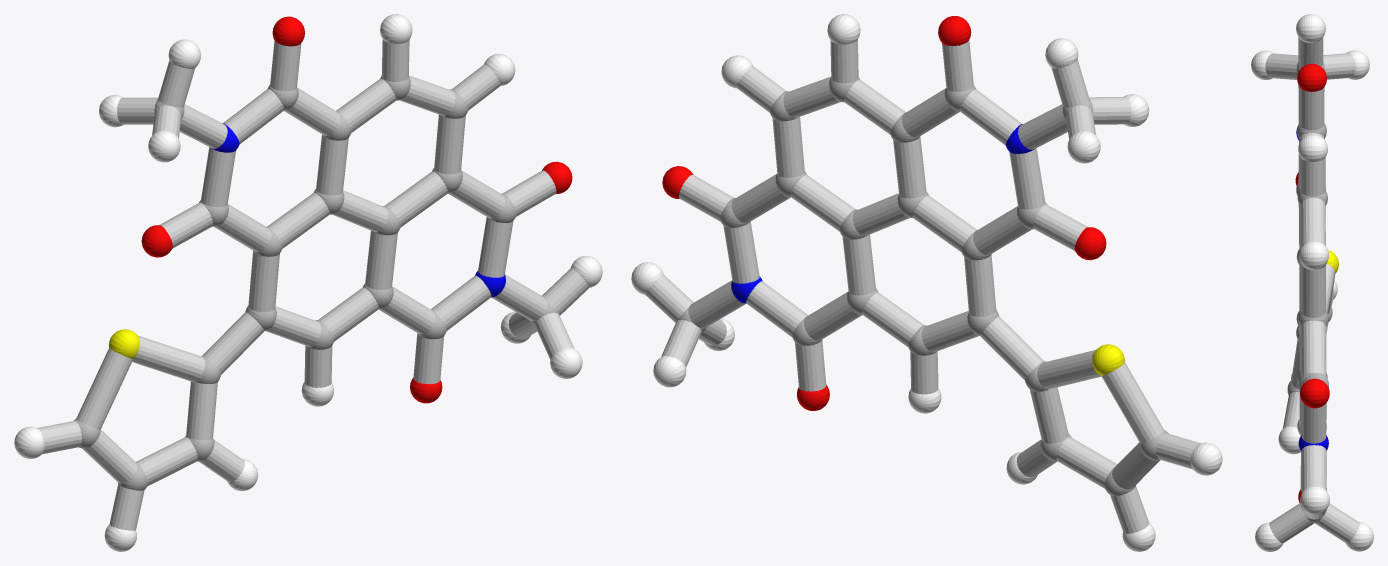
File: Dimethyl_Naphthalene_Dicarboximide_Phi_0_Theta_190_Thiophene.glb
The picture shows the model from 3 angles, left to right: view 1: azimuth 30°, elevation 25°; view 2: azimuth 150°, elevation 25°; view 3: azimuth 270°, elevation 25°; orthographic projection. The views are drawn at different scales.
Parts seen in each view (by area): view 1: grp14119, grp7241, grp1, grp12309, grp11585, grp13757; view 2: grp14119, grp7241, grp1, grp12309, grp13757, grp11585; view 3: grp14119, grp7241, grp12309, grp1, grp11585.
Boxes of the visible parts, <box> form: grp14119: <box>37,39,589,530</box>; grp7241: <box>14,14,602,551</box>; grp1: <box>73,76,558,490</box>; grp12309: <box>141,16,572,403</box>; grp11585: <box>211,123,505,297</box>; grp13757: <box>108,329,139,359</box>; grp14119: <box>645,39,1200,533</box>; grp7241: <box>631,14,1222,551</box>; grp1: <box>677,77,1168,496</box>; grp12309: <box>662,16,1106,410</box>; grp13757: <box>1092,344,1124,375</box>; grp11585: <box>731,124,1034,303</box>; grp14119: <box>1265,37,1359,543</box>; grp7241: <box>1251,14,1373,551</box>; grp12309: <box>1295,63,1329,502</box>; grp1: <box>1287,62,1332,523</box>; grp11585: <box>1296,127,1328,450</box>.
Size of the model in its own units: 12.34 by 9.93 by 2.47.
